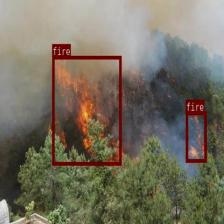fire: (52, 55, 121, 165), (186, 111, 206, 162)
